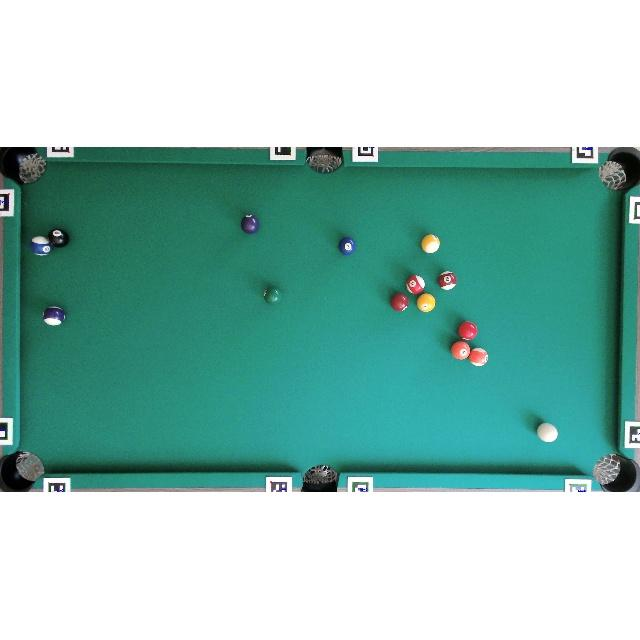cue ball: (536, 422, 558, 443)
other: (41, 305, 66, 326), (47, 228, 70, 248), (263, 285, 284, 306), (450, 340, 471, 361), (30, 235, 51, 256), (240, 213, 260, 235), (438, 270, 458, 291), (406, 274, 426, 295), (469, 347, 489, 367), (420, 234, 440, 254), (416, 293, 436, 313), (338, 236, 357, 256), (458, 321, 477, 340), (390, 293, 409, 312)
